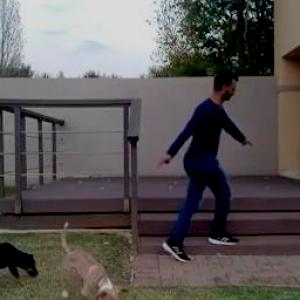land: (116, 61, 260, 269)
